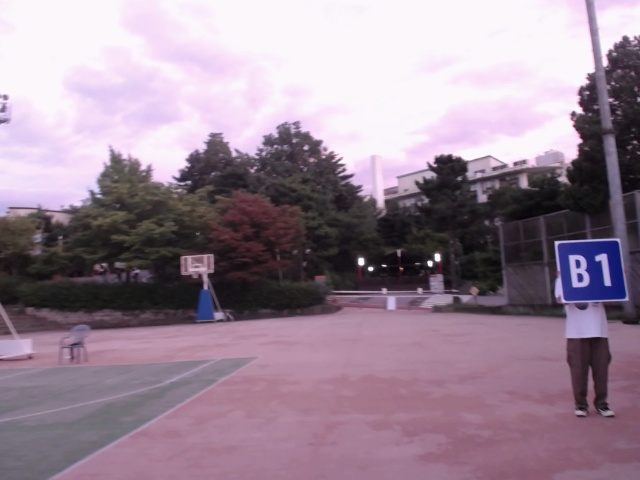delivery_b1: (556, 239, 628, 305)
